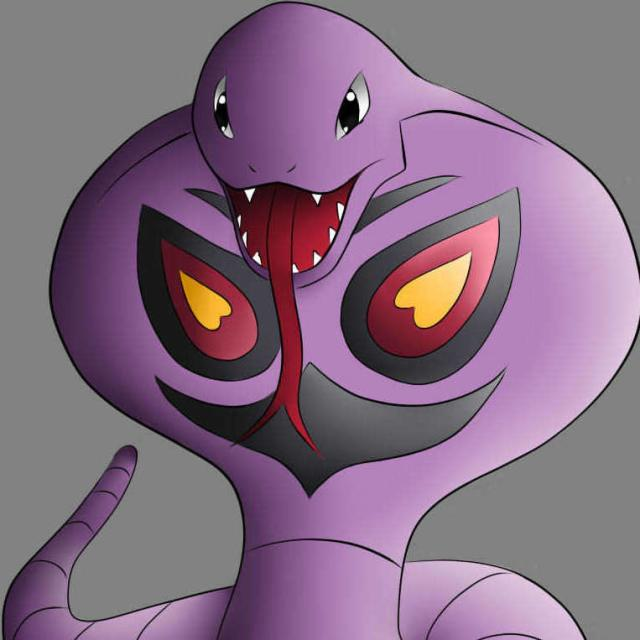Arbok: (125, 6, 548, 636)
